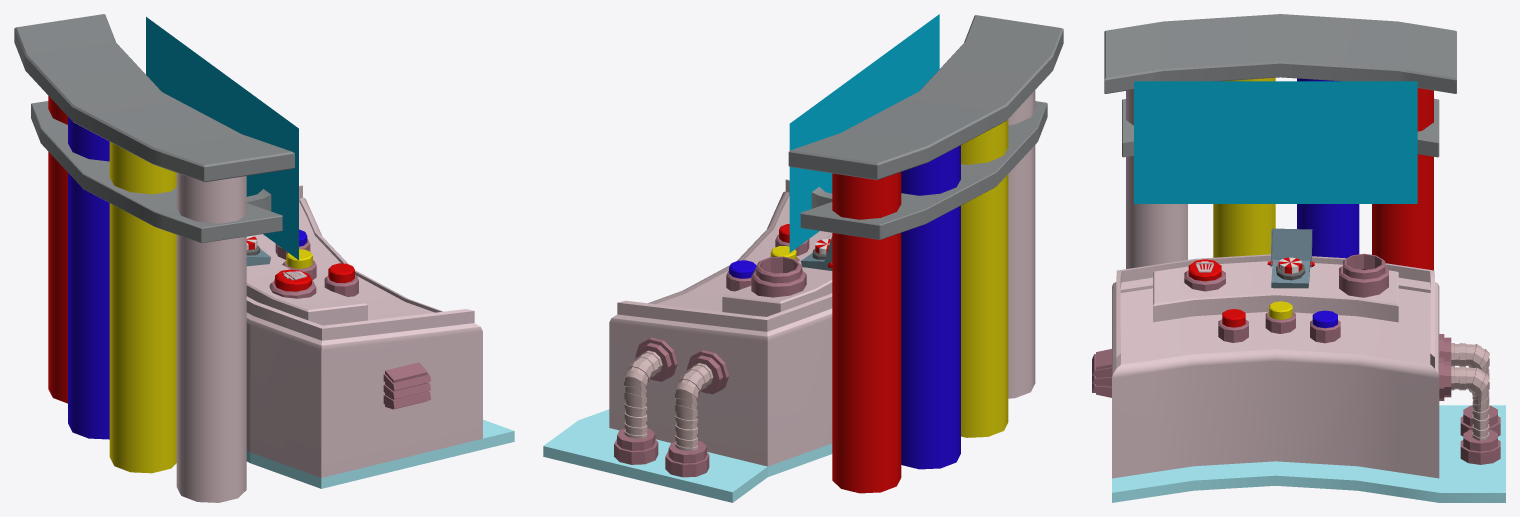
The model's file is POWer_LAB_BLEN.fbx.
3 views of the same model, side by side, from view 1: azimuth 30°, elevation 25°; view 2: azimuth 150°, elevation 25°; view 3: azimuth 270°, elevation 25° (orthographic). The views are drawn at different scales.
Parts seen in each view (by area): view 1: pCube10, Moniter_01, polySurface4; view 2: pCube10, Moniter_01, New_poetion; view 3: pCube10, Moniter_01, New_poetion, polySurface4.
Part boxes in pixels (x1=…): pCube10: x1=14, y1=14, x2=514, y2=502; Moniter_01: x1=146, y1=17, x2=298, y2=259; polySurface4: x1=274, y1=269, x2=311, y2=291; pCube10: x1=543, y1=15, x2=1063, y2=502; Moniter_01: x1=789, y1=14, x2=939, y2=252; New_poetion: x1=751, y1=256, x2=806, y2=297; pCube10: x1=1092, y1=14, x2=1505, y2=502; Moniter_01: x1=1134, y1=81, x2=1417, y2=203; New_poetion: x1=1339, y1=253, x2=1388, y2=297; polySurface4: x1=1188, y1=259, x2=1221, y2=281.
Bounding box in the file's own units: 6.83 × 6.6 × 7.49.
